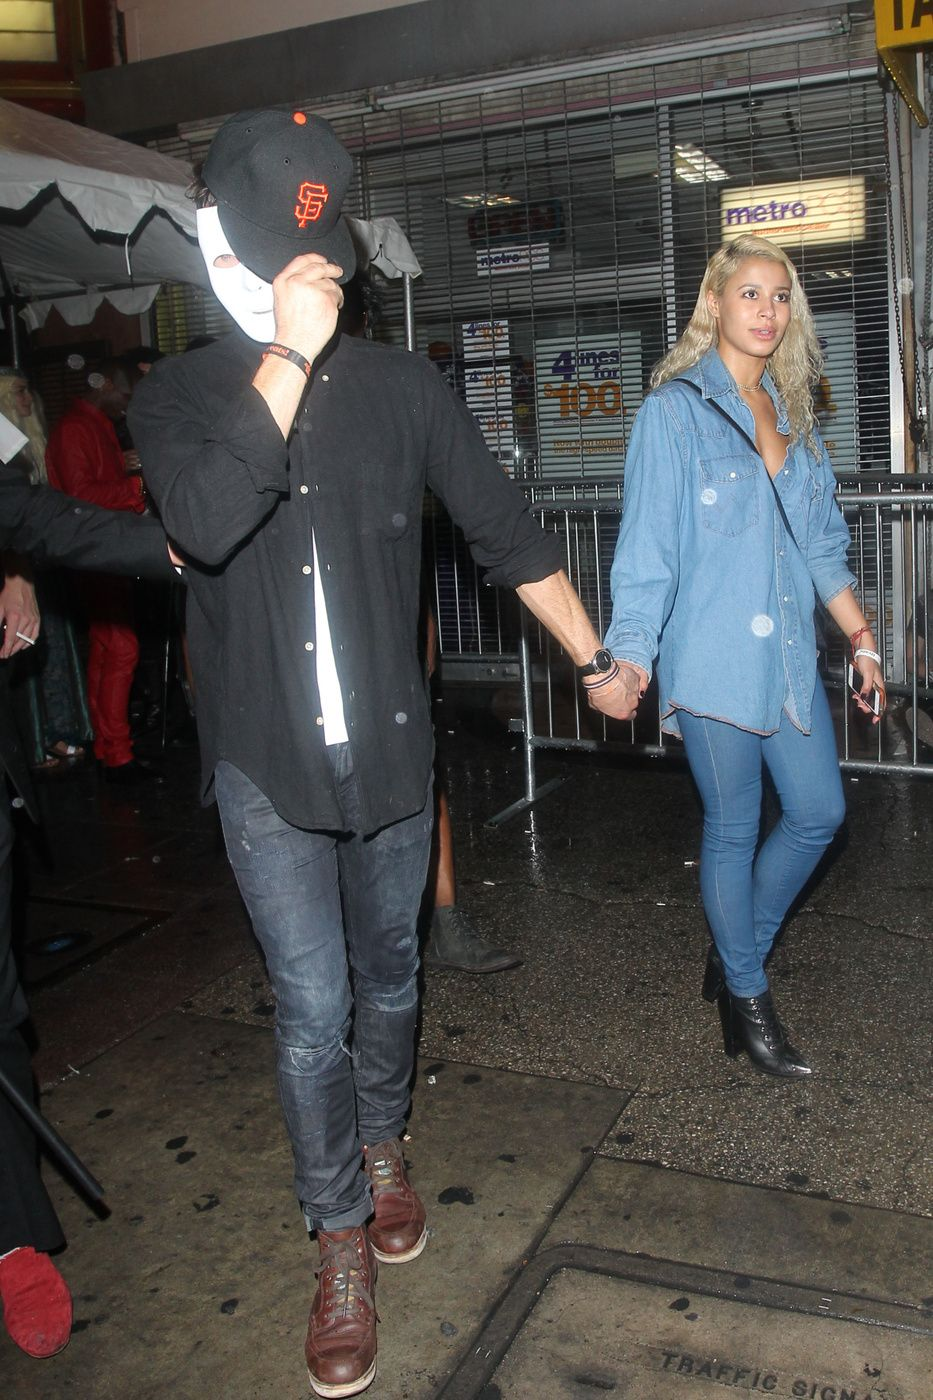Person: (131, 116, 639, 1400), (604, 237, 893, 1083)
